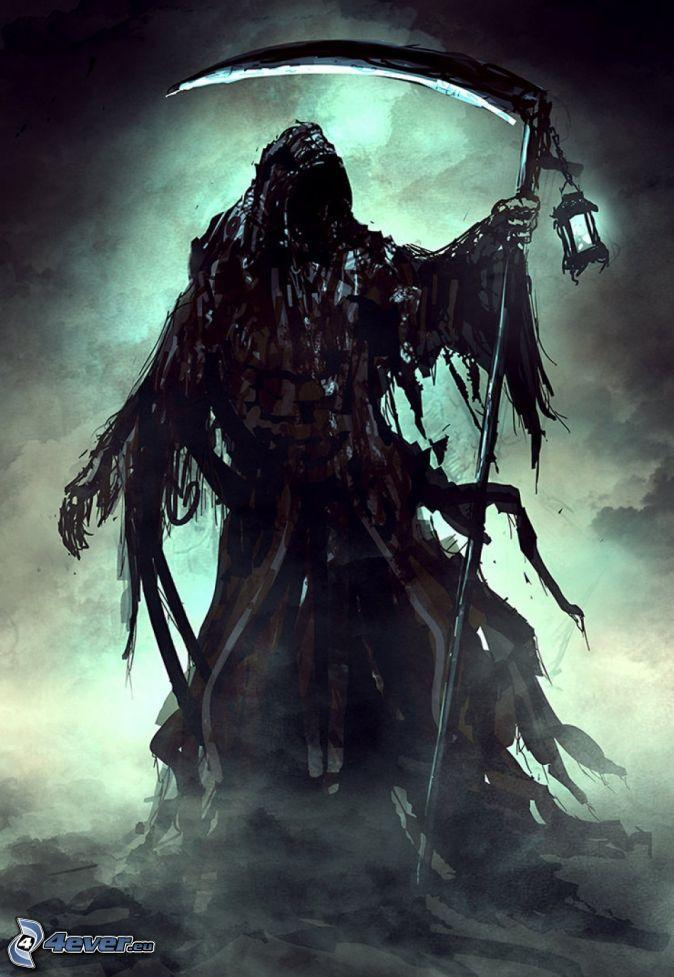foice: (167, 41, 557, 883)
